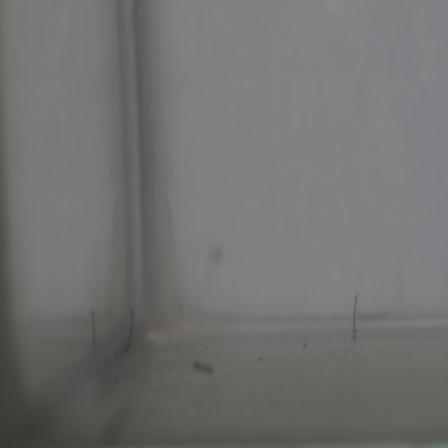Jentik-Nyamuk: (117, 307, 140, 359), (346, 288, 363, 343)
